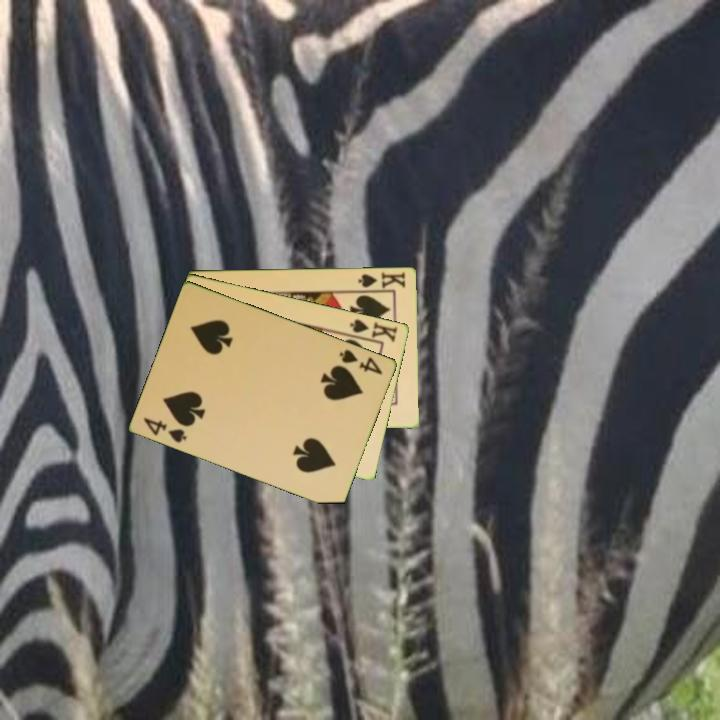4s: (140, 414, 190, 446), (336, 346, 386, 377)
Ks: (344, 315, 401, 345), (355, 268, 409, 293)
